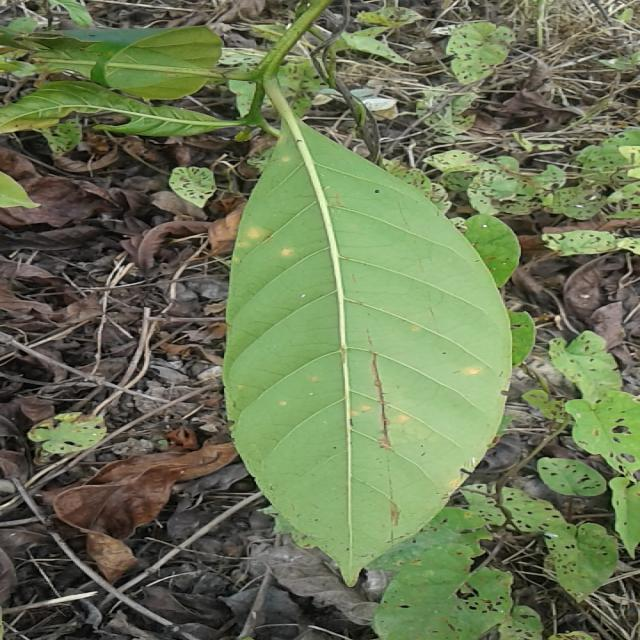Enfermedad-Roya: (221, 112, 514, 590)
